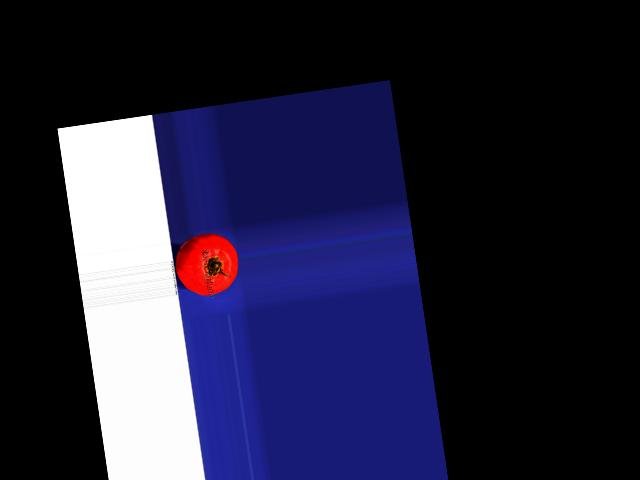tomato: (172, 229, 242, 299)
